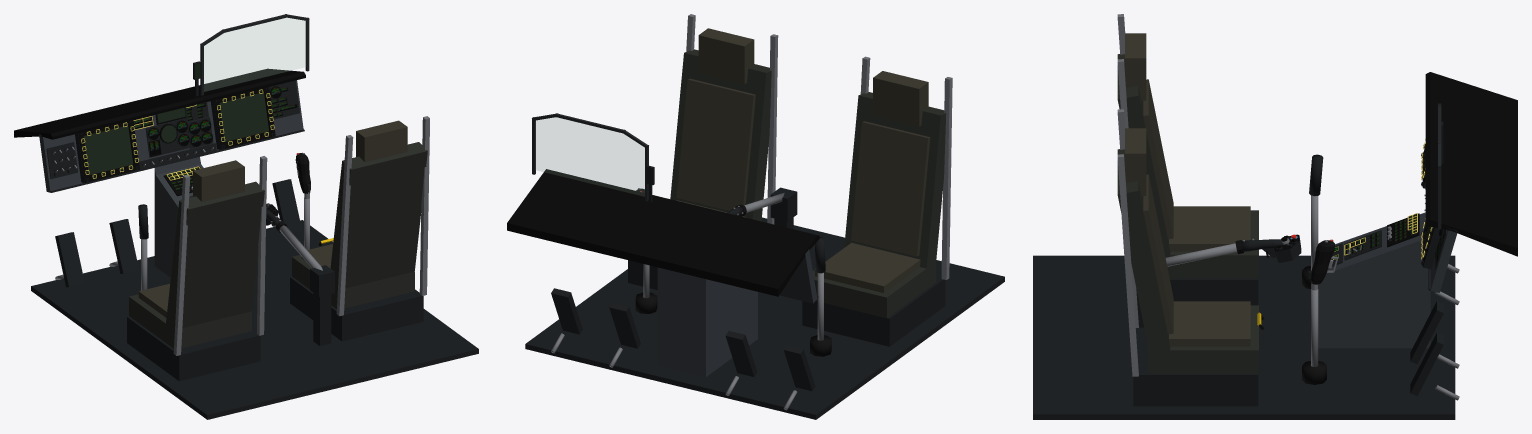
File: cockpit_oh58.glb
3 renders of one model, left to right at view 1: azimuth 30°, elevation 25°; view 2: azimuth 150°, elevation 25°; view 3: azimuth 270°, elevation 25°, orthographic. The views are drawn at different scales.
Parts seen in each view (by area): view 1: dark.131, seat_95.001, seat_95, hud_glass_69, black, dark.137, dark.136, seat_93.001, panel_grey, seat_93, panel_grey.001, screen_right (+21 smaller); view 2: dark.131, black, cushion_96.001, cushion_96, hud_glass_69, panel_grey.002, seat_95.001, seat_95, dark.137, panel_grey.001, cushion_94.001, seat_93.001 (+12 smaller); view 3: dark.131, black, panel_grey.001, dark.136, seat_95, cushion_94, seat_93, cushion_94.001, seat_93.001, dark.137, cushion_96.001, cushion_96 (+14 smaller).
Boxes of the visible parts, x1=… form: dark.131: x1=31, y1=220, x2=478, y2=419; seat_95.001: x1=166, y1=181, x2=264, y2=329; seat_95: x1=330, y1=142, x2=427, y2=290; hud_glass_69: x1=204, y1=18, x2=305, y2=91; black: x1=14, y1=68, x2=305, y2=139; dark.137: x1=127, y1=316, x2=260, y2=381; dark.136: x1=290, y1=276, x2=423, y2=341; seat_93.001: x1=129, y1=294, x2=251, y2=348; panel_grey: x1=39, y1=80, x2=303, y2=192; seat_93: x1=292, y1=255, x2=414, y2=308; panel_grey.001: x1=156, y1=164, x2=203, y2=277; screen_right: x1=219, y1=92, x2=268, y2=141; dark.131: x1=525, y1=217, x2=1004, y2=419; black: x1=507, y1=169, x2=819, y2=296; cushion_96.001: x1=851, y1=121, x2=930, y2=256; cushion_96: x1=676, y1=78, x2=755, y2=210; hud_glass_69: x1=535, y1=117, x2=644, y2=196; panel_grey.002: x1=657, y1=267, x2=707, y2=376; seat_95.001: x1=844, y1=92, x2=946, y2=269; seat_95: x1=670, y1=49, x2=771, y2=221; dark.137: x1=802, y1=275, x2=945, y2=346; panel_grey.001: x1=707, y1=279, x2=757, y2=375; cushion_94.001: x1=815, y1=242, x2=920, y2=292; seat_93.001: x1=813, y1=262, x2=936, y2=318; dark.131: x1=1033, y1=255, x2=1455, y2=419; black: x1=1425, y1=72, x2=1517, y2=256; panel_grey.001: x1=1314, y1=212, x2=1427, y2=348; dark.136: x1=1133, y1=327, x2=1258, y2=406; seat_95: x1=1117, y1=149, x2=1170, y2=355; cushion_94: x1=1169, y1=301, x2=1250, y2=346; seat_93: x1=1148, y1=305, x2=1258, y2=373; cushion_94.001: x1=1169, y1=206, x2=1250, y2=251; seat_93.001: x1=1166, y1=210, x2=1258, y2=278; dark.137: x1=1169, y1=278, x2=1258, y2=305; cushion_96.001: x1=1143, y1=79, x2=1173, y2=239; cushion_96: x1=1143, y1=174, x2=1173, y2=334.
Bounding box in the file's own units: 1.2 × 0.9315 × 1.55.
Materials: 27 (6 with a texture image).
